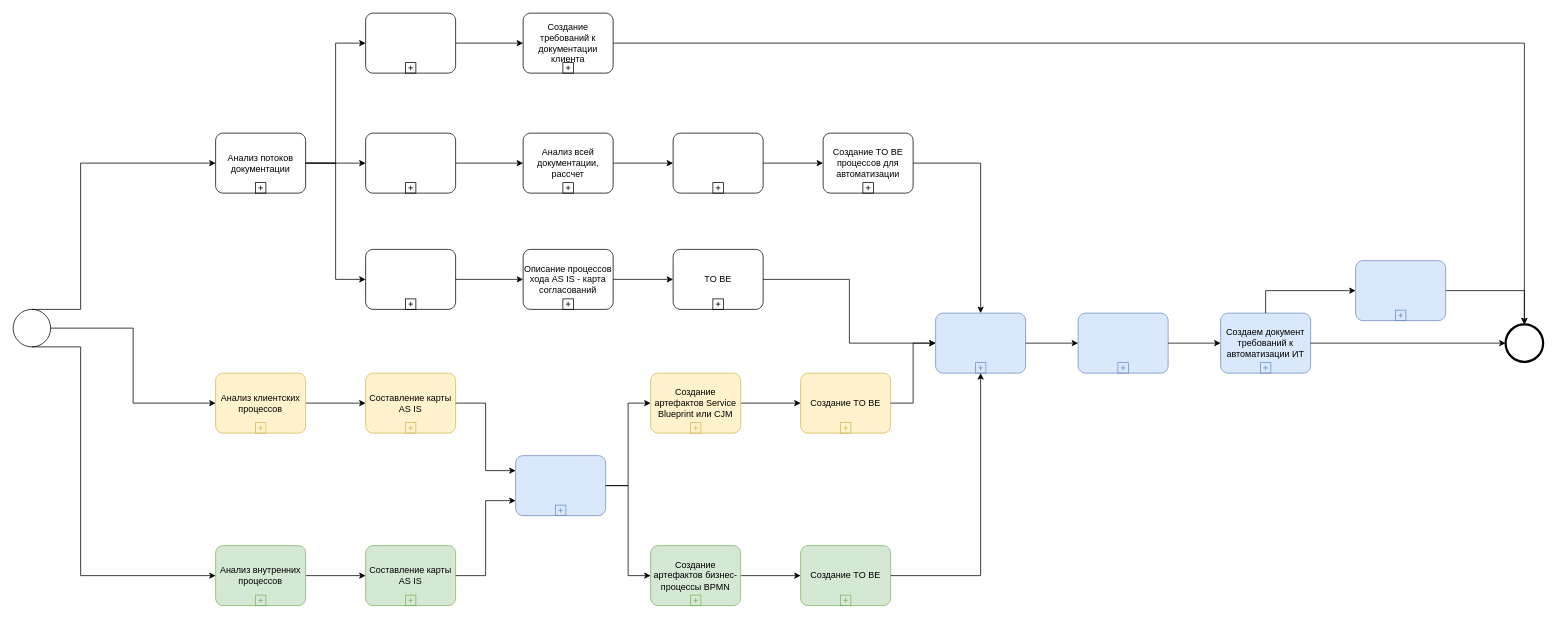
This 1556x619 diagram has some shape labels left out. The box of each missing label's shape, as (x1, y1, x2, y2) in pixels:
Анализ ЦА клиента: (365, 12, 456, 73)
Все в кучу TO BE: (935, 312, 1026, 373)
Описание верхнеуровневых процессов - Value Stream Mapping: (515, 455, 606, 516)
Сбор всех возможных данных, консолидация: (365, 132, 456, 193)
Сбор потоков документов и согласований. Поверхностно Орг. структура: (365, 249, 456, 309)
Создаем архитектуру ИТ и детальные ТЗ (опционально): (1355, 260, 1446, 321)
Создаем документы требований к изменению процессов и план: (1077, 312, 1168, 373)
Создание требований к отчетам: (672, 132, 763, 193)
